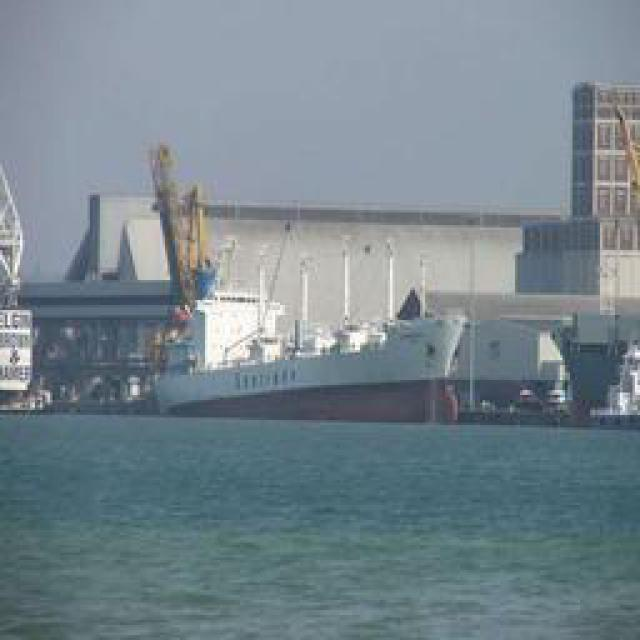Ship: (152, 295, 474, 426)
